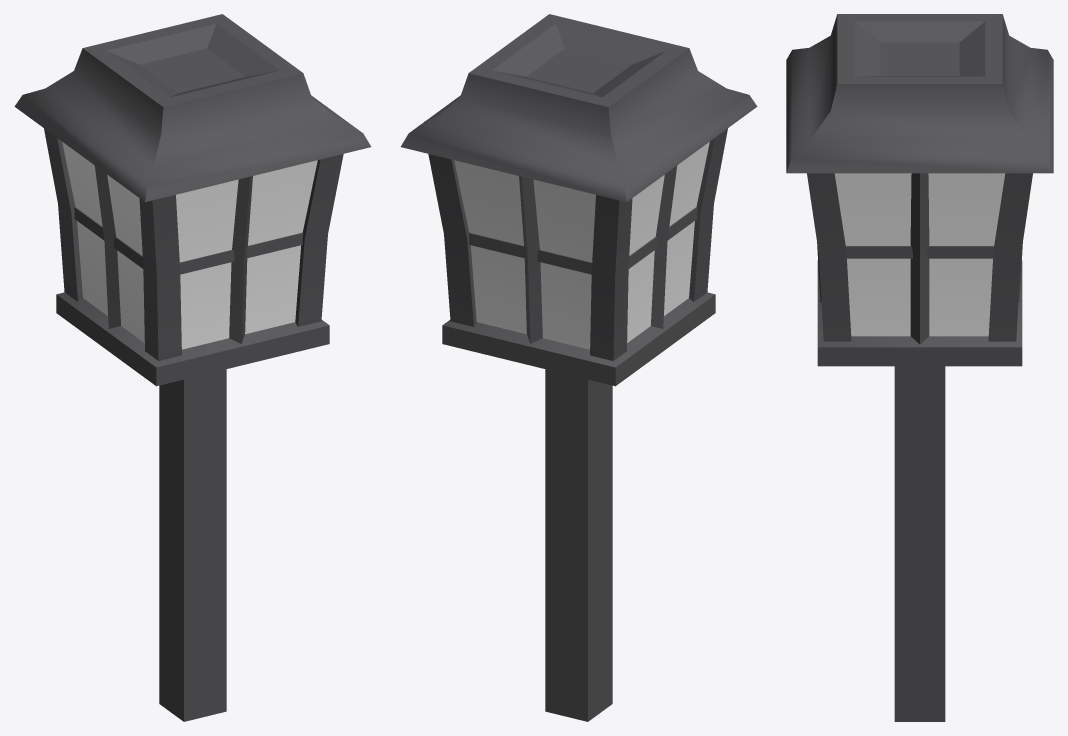
File: SM_Env_Garden_Lamp_01.obj
3 views of the same model, side by side, from view 1: azimuth 30°, elevation 25°; view 2: azimuth 150°, elevation 25°; view 3: azimuth 270°, elevation 25° (orthographic). The views are drawn at different scales.
Visible parts, largest first — view 1: SM_Env_Garden_Lamp_01_Mat_SwatchOverlay_PolygonTown_01_Inst, SM_Env_Garden_Lamp_01_Mat_Glow_Lamp_Inst; view 2: SM_Env_Garden_Lamp_01_Mat_SwatchOverlay_PolygonTown_01_Inst, SM_Env_Garden_Lamp_01_Mat_Glow_Lamp_Inst; view 3: SM_Env_Garden_Lamp_01_Mat_SwatchOverlay_PolygonTown_01_Inst, SM_Env_Garden_Lamp_01_Mat_Glow_Lamp_Inst.
Part boxes in pixels (<box>): SM_Env_Garden_Lamp_01_Mat_SwatchOverlay_PolygonTown_01_Inst: <box>14,14,371,721</box>; SM_Env_Garden_Lamp_01_Mat_Glow_Lamp_Inst: <box>62,142,317,349</box>; SM_Env_Garden_Lamp_01_Mat_SwatchOverlay_PolygonTown_01_Inst: <box>400,14,757,721</box>; SM_Env_Garden_Lamp_01_Mat_Glow_Lamp_Inst: <box>454,142,709,349</box>; SM_Env_Garden_Lamp_01_Mat_SwatchOverlay_PolygonTown_01_Inst: <box>786,14,1053,721</box>; SM_Env_Garden_Lamp_01_Mat_Glow_Lamp_Inst: <box>834,173,1005,336</box>.
Size of the model in its own units: 0.7195 by 1.97 by 0.7195.
2 materials, 1 textured.
